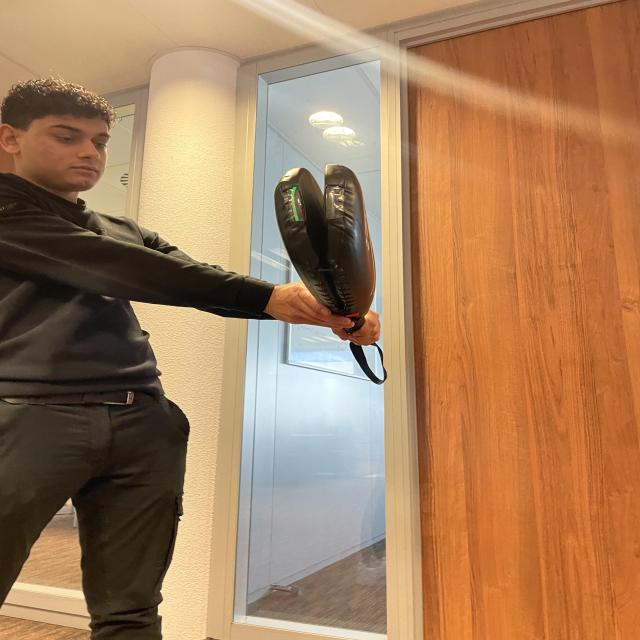paddle: (273, 160, 364, 322)
trigger: (284, 181, 306, 222)
